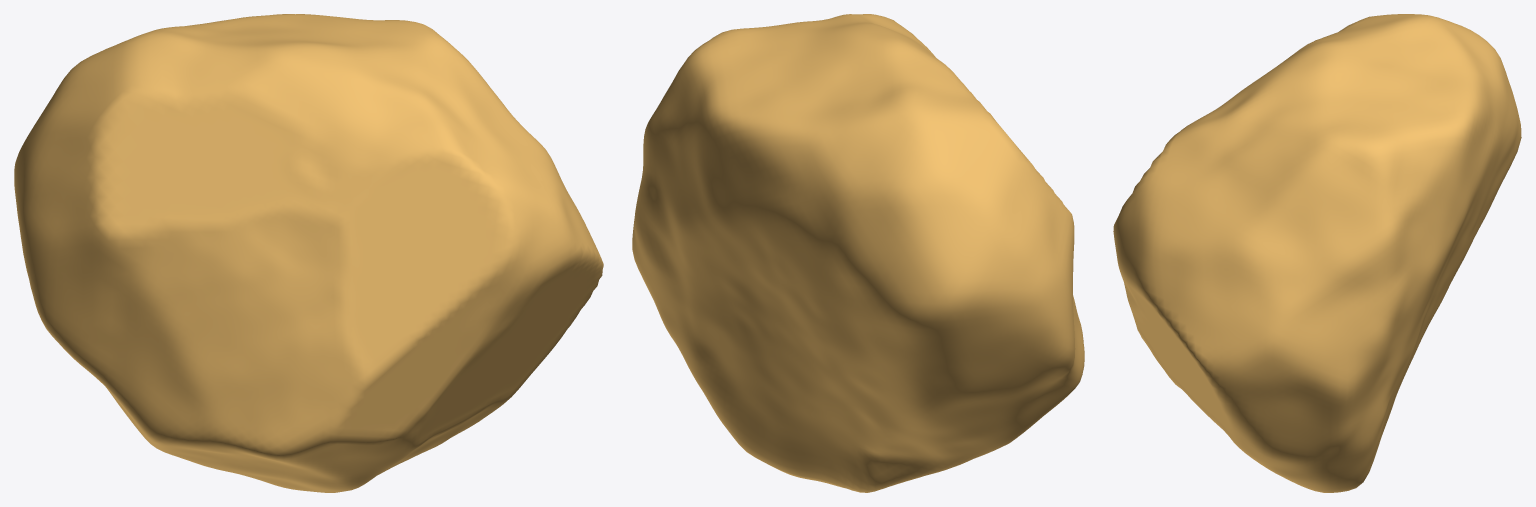
Rendered from nugget-06.glb.
The picture shows the model from 3 angles, left to right: view 1: azimuth 30°, elevation 25°; view 2: azimuth 150°, elevation 25°; view 3: azimuth 270°, elevation 25°; orthographic projection. The views are drawn at different scales.
Visible parts, largest first — view 1: nugget-06; view 2: nugget-06; view 3: nugget-06.
Boxes of the visible parts, x1,y1,x2,y2 form: nugget-06: (14,14,603,492); nugget-06: (632,14,1084,492); nugget-06: (1113,14,1521,492).
Size of the model in its own units: 3.7 by 3.3 by 3.05.
